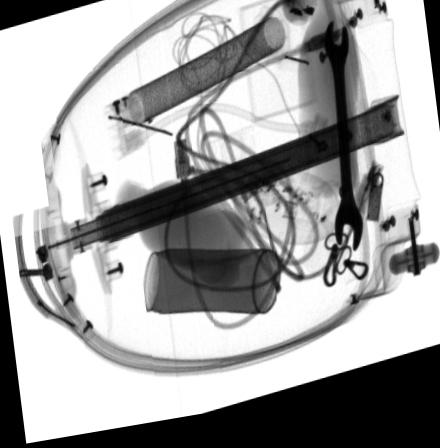Wrench: (323, 31, 363, 263)
